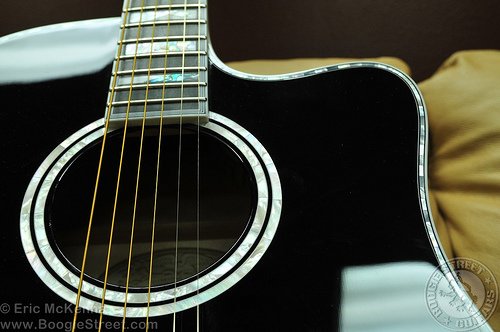guitar: (1, 1, 494, 332)
